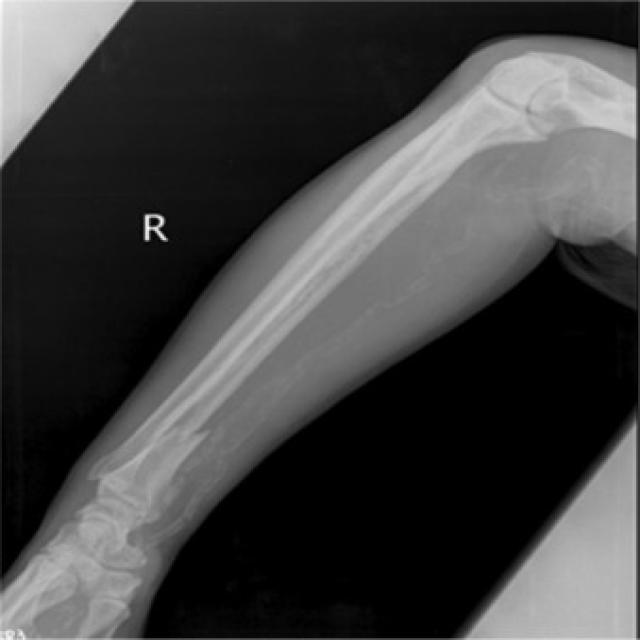pathological: (62, 390, 250, 497)
